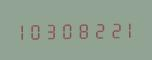eight: (77, 19, 91, 39)
one: (17, 21, 31, 40), (122, 19, 136, 38)
three: (47, 20, 61, 40)
two: (92, 19, 106, 39), (107, 19, 121, 39)
zero: (32, 20, 46, 40), (62, 20, 76, 39)
